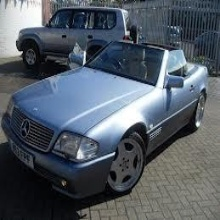no damage: (1, 39, 208, 202), (14, 6, 137, 67)
